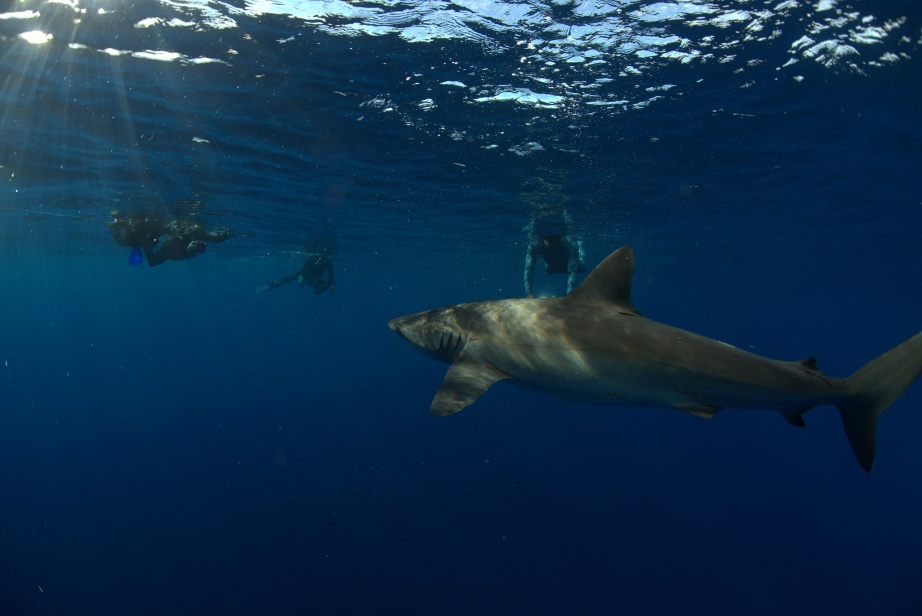Sedoso: (383, 238, 922, 481)
